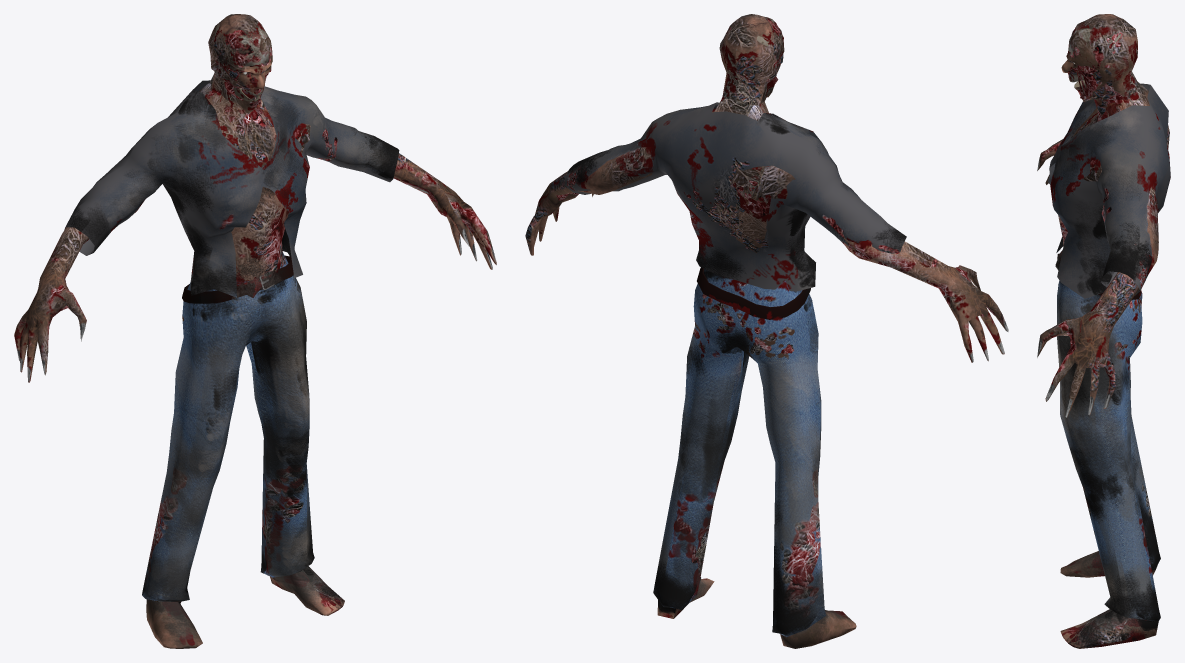
Rendered from Zombie_LOW3-color.fbx.
3 renders of one model, left to right at view 1: azimuth 30°, elevation 25°; view 2: azimuth 150°, elevation 25°; view 3: azimuth 270°, elevation 25°, orthographic.
Visible parts, largest first — view 1: sborka_pod_uv_sdelannaya_Group31792, sborka_pod_uv_sdelannaya_Group47683, sborka_pod_uv_sdelannaya_Group45701, sborka_pod_uv_sdelannaya_Group63573; view 2: sborka_pod_uv_sdelannaya_Group31792, sborka_pod_uv_sdelannaya_Group47683, sborka_pod_uv_sdelannaya_Group63573; view 3: sborka_pod_uv_sdelannaya_Group31792, sborka_pod_uv_sdelannaya_Group47683, sborka_pod_uv_sdelannaya_Group45701, sborka_pod_uv_sdelannaya_Group13926.
Part boxes in pixels (x1,y1,x2,y2): sborka_pod_uv_sdelannaya_Group31792: (14,14,496,648); sborka_pod_uv_sdelannaya_Group47683: (64,80,399,297); sborka_pod_uv_sdelannaya_Group45701: (214,24,271,103); sborka_pod_uv_sdelannaya_Group63573: (182,255,293,303); sborka_pod_uv_sdelannaya_Group31792: (525,14,1008,648); sborka_pod_uv_sdelannaya_Group47683: (564,102,906,291); sborka_pod_uv_sdelannaya_Group63573: (697,267,810,319); sborka_pod_uv_sdelannaya_Group31792: (1037,14,1169,648); sborka_pod_uv_sdelannaya_Group47683: (1047,83,1170,298); sborka_pod_uv_sdelannaya_Group45701: (1068,22,1137,94); sborka_pod_uv_sdelannaya_Group13926: (1077,72,1101,99).
Bounding box in the file's own units: 14804 × 18244 × 3747.
5 materials, 5 textured.
